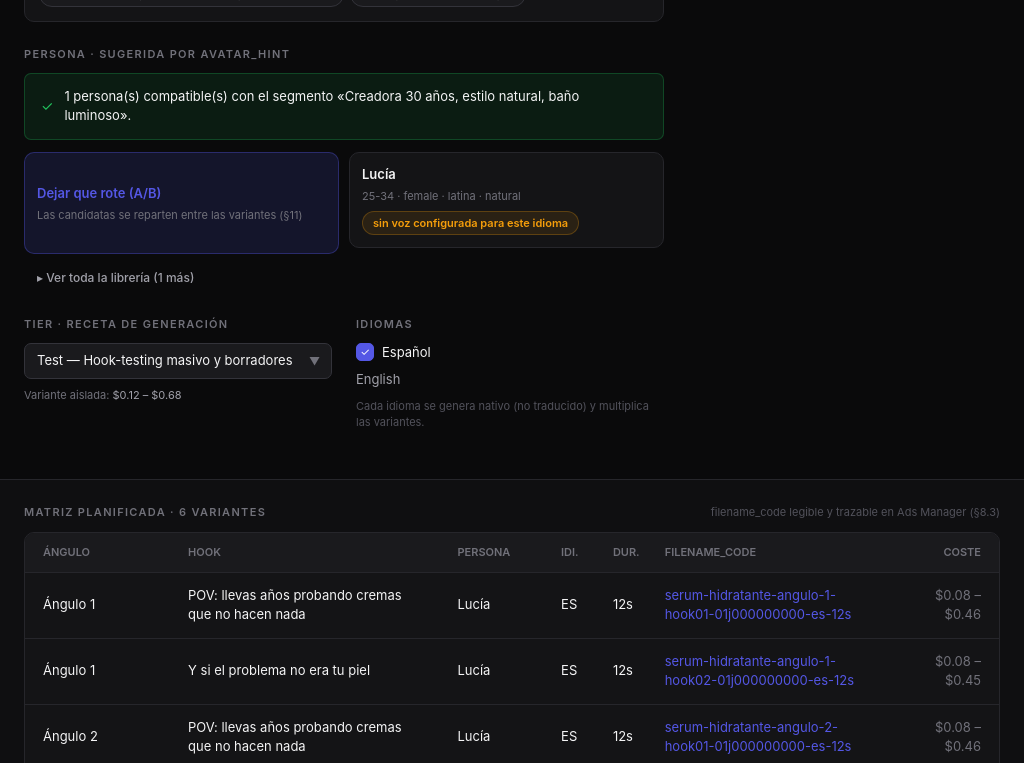
Test case: CP2 · matriz y confirmación de gasto › añadir un idioma MULTIPLICA las variantes (cada uno se genera nativo)
(page scrolled)
What coordinates should you click on to do the following:
click the checkbox labelled "English"
I would click on:
 (378, 379)
Its box is [356,370,664,390].
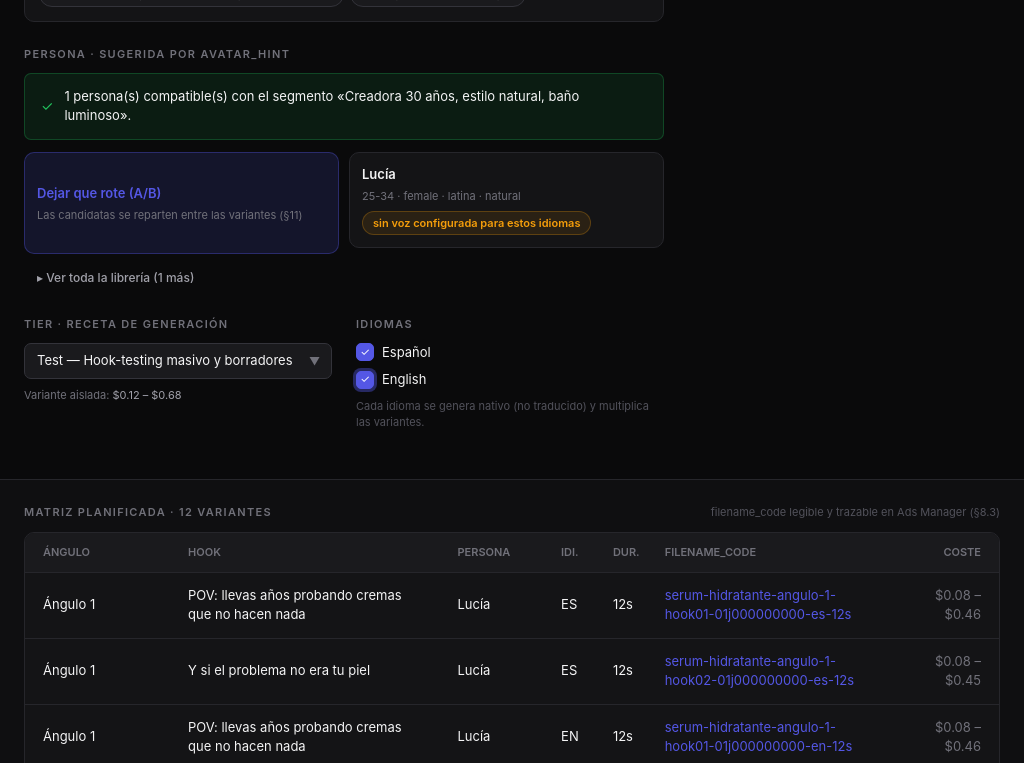
Result: the number of rows is 13
